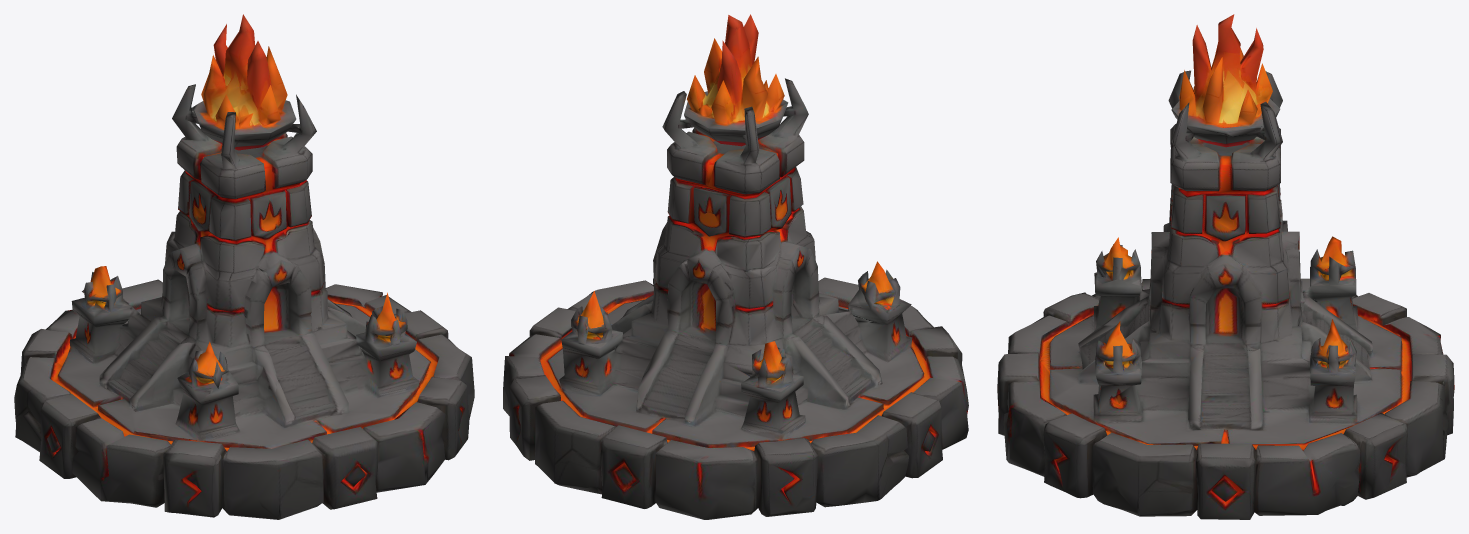
Rendered from monument.glb.
3 renders of one model, left to right at view 1: azimuth 30°, elevation 25°; view 2: azimuth 150°, elevation 25°; view 3: azimuth 270°, elevation 25°, orthographic.
Parts seen in each view (by area): view 1: tripo_node_fb2e5402-253f-40af-b0aa-2a80bfc13d6c; view 2: tripo_node_fb2e5402-253f-40af-b0aa-2a80bfc13d6c; view 3: tripo_node_fb2e5402-253f-40af-b0aa-2a80bfc13d6c.
Boxes of the visible parts, <box> form: tripo_node_fb2e5402-253f-40af-b0aa-2a80bfc13d6c: <box>14,14,474,519</box>; tripo_node_fb2e5402-253f-40af-b0aa-2a80bfc13d6c: <box>503,14,968,519</box>; tripo_node_fb2e5402-253f-40af-b0aa-2a80bfc13d6c: <box>997,14,1454,519</box>.
Bounding box in the file's own units: 0.9921 × 0.9979 × 1.
1 material, 1 textured.
